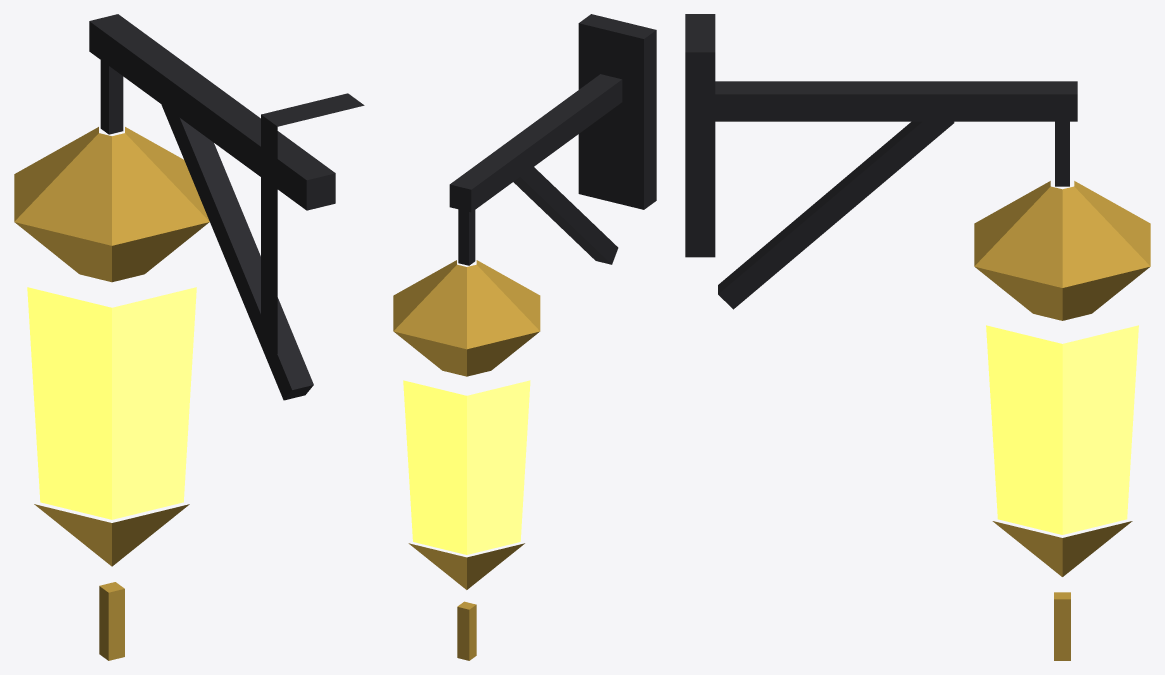
Rendered from lamp_wall_bracket.glb.
3 views of the same model, side by side, from view 1: azimuth 30°, elevation 25°; view 2: azimuth 150°, elevation 25°; view 3: azimuth 270°, elevation 25° (orthographic). The views are drawn at different scales.
Visible parts, largest first — view 1: lamp_wall_bracket; view 2: lamp_wall_bracket; view 3: lamp_wall_bracket.
Boxes of the visible parts, x1,y1,x2,y2 form: lamp_wall_bracket: [14, 14, 364, 660]; lamp_wall_bracket: [393, 14, 656, 660]; lamp_wall_bracket: [685, 14, 1150, 660].
Bounding box in the file's own units: 0.27 × 0.913 × 0.6169.
